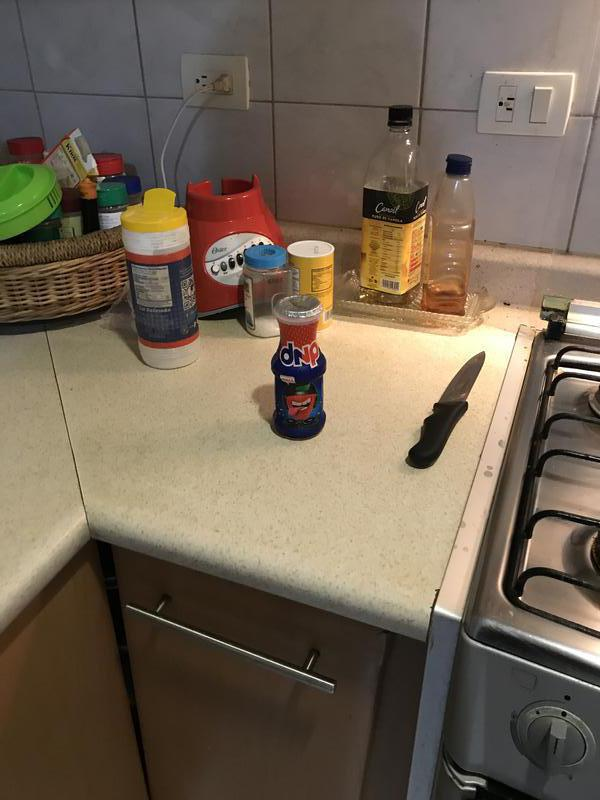danup: (270, 297, 329, 442)
